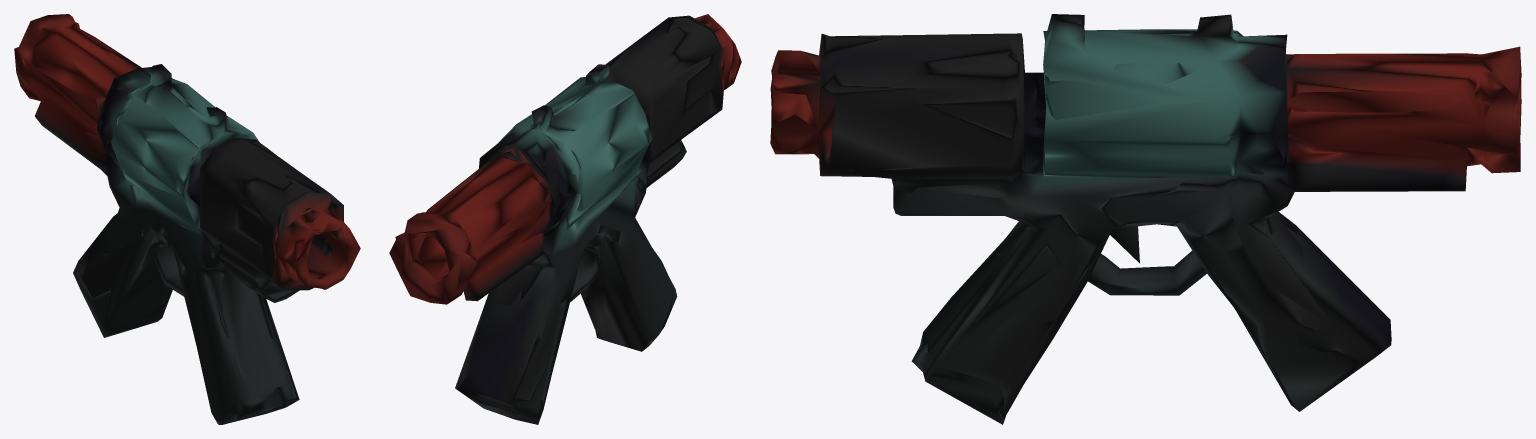
The model's file is gen3d-ray-gun-lod0.glb.
The picture shows the model from 3 angles, left to right: view 1: azimuth 30°, elevation 25°; view 2: azimuth 150°, elevation 25°; view 3: azimuth 270°, elevation 25°; orthographic projection. The views are drawn at different scales.
Parts seen in each view (by area): view 1: part_0; view 2: part_0; view 3: part_0.
Part boxes in pixels (x1=…): part_0: x1=14, y1=14, x2=360, y2=424; part_0: x1=389, y1=14, x2=741, y2=424; part_0: x1=770, y1=14, x2=1521, y2=424.
Size of the model in its own units: 0.3243 by 0.9946 by 1.72.
